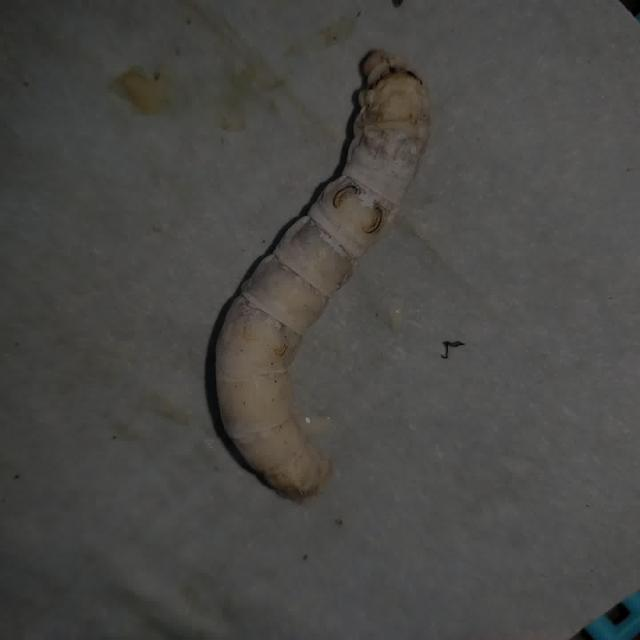Grasserie: (186, 27, 464, 516)
